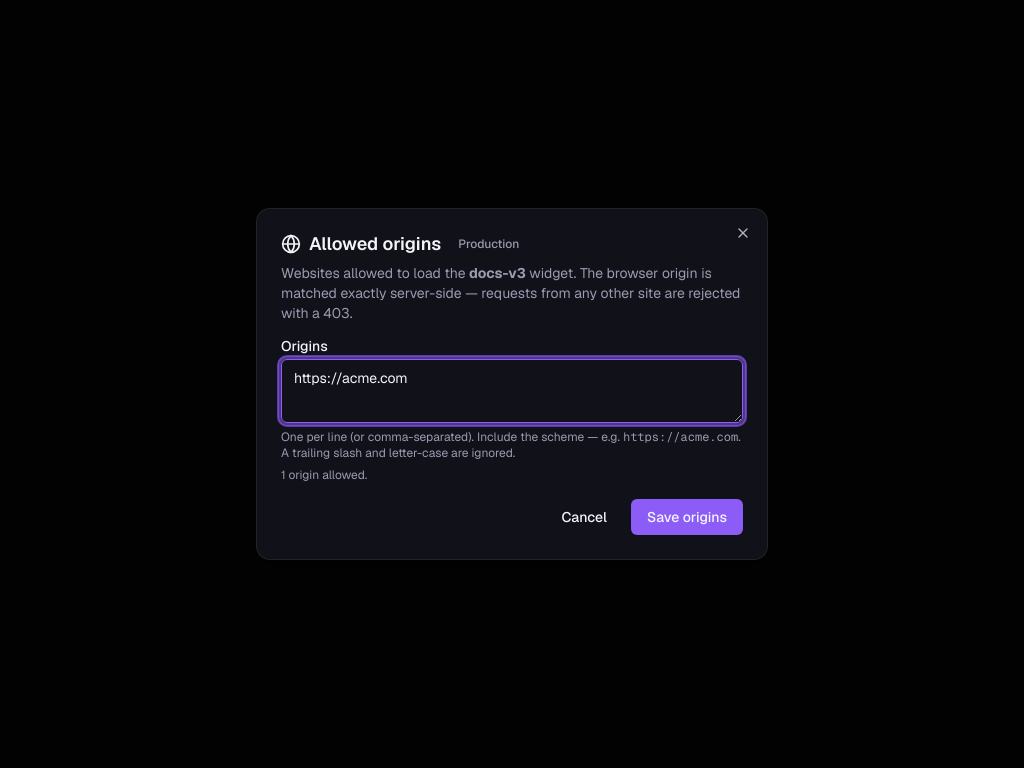
Test case: WidgetOriginsDialog › warns that an empty list blocks browser embeds (R16)
This screenshot has width=1024, height=768.
Expected: the element with test id "admin-widget-origins-count" shows "1 origin allowed", [281, 467, 367, 483]
Clear the text box with test id "admin-widget-origins-input" at (512, 391), box [281, 359, 743, 423]
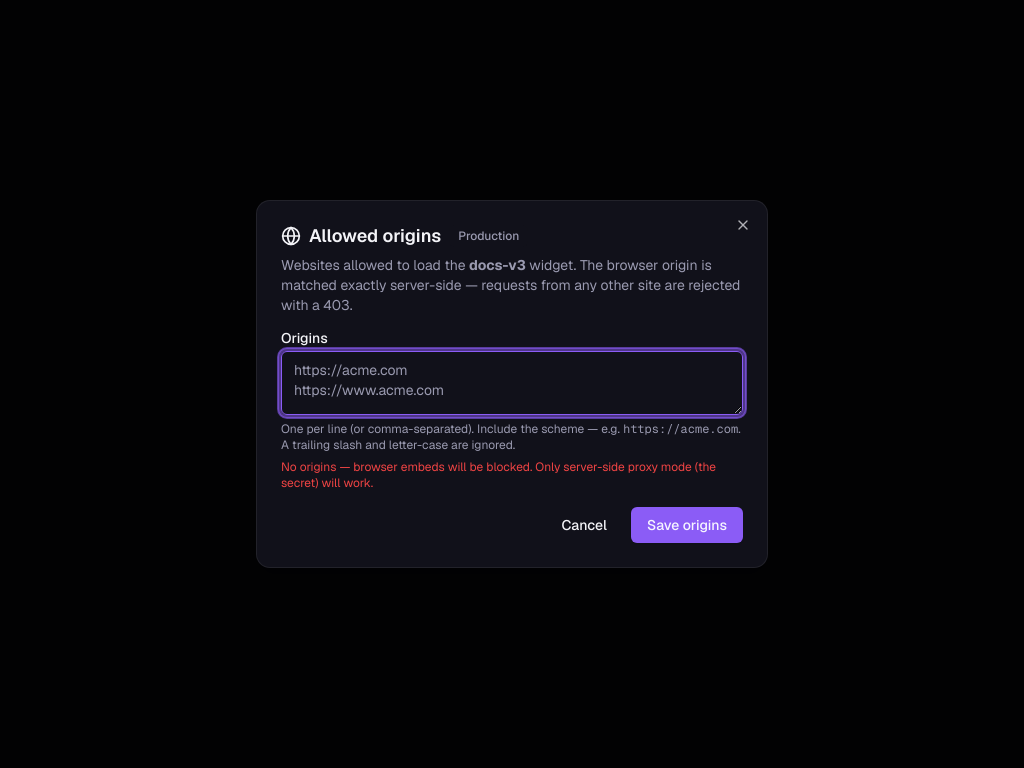
Expected: the element with test id "admin-widget-origins-count" shows "browser embeds will be blocked", [281, 459, 716, 491]
